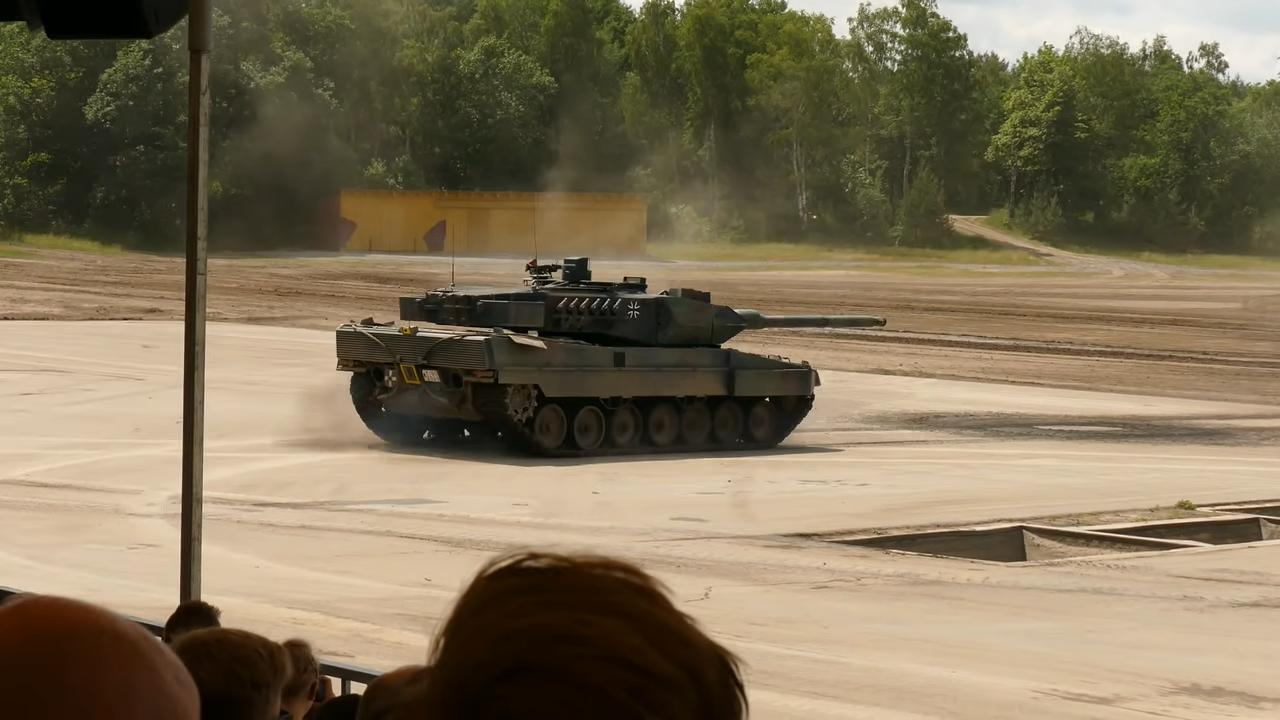tank: (335, 257, 887, 456)
